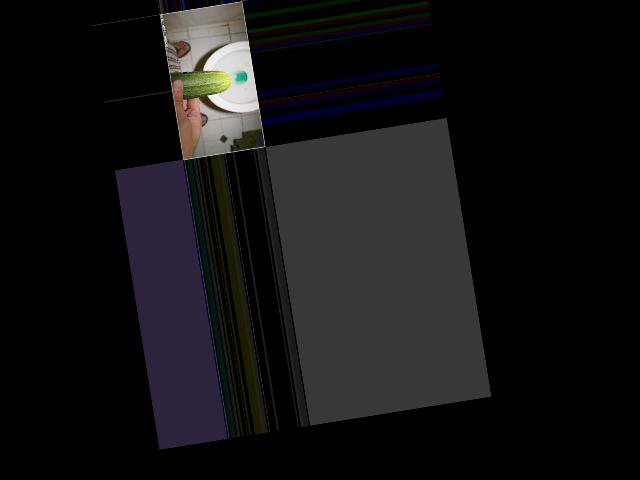cucumber: (168, 64, 232, 100)
